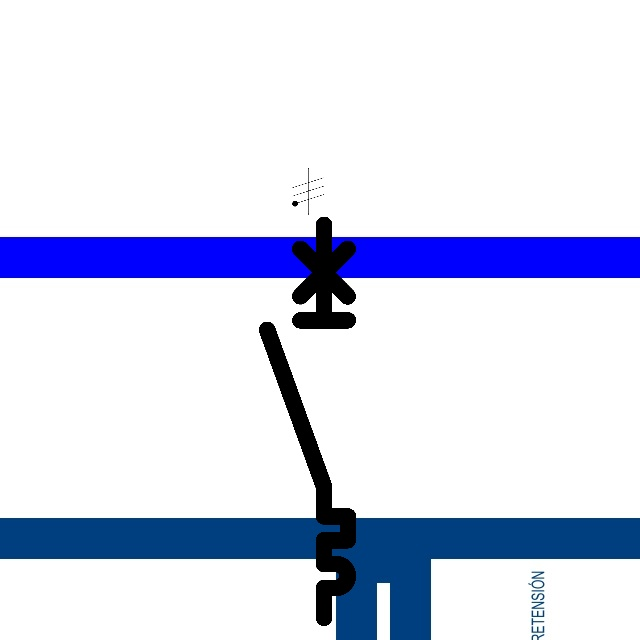interruptor_termomagnetico: (257, 214, 358, 627)
